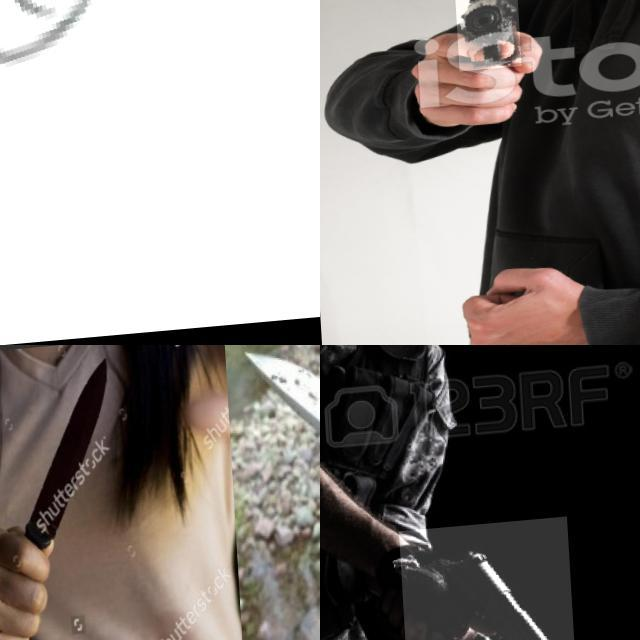-: (0, 356, 117, 640), (232, 345, 320, 615), (10, 345, 196, 431)
gun-knife-thesis - v11 Yolov5 augmented: (0, 0, 320, 345), (393, 523, 569, 640), (451, 0, 517, 74)
